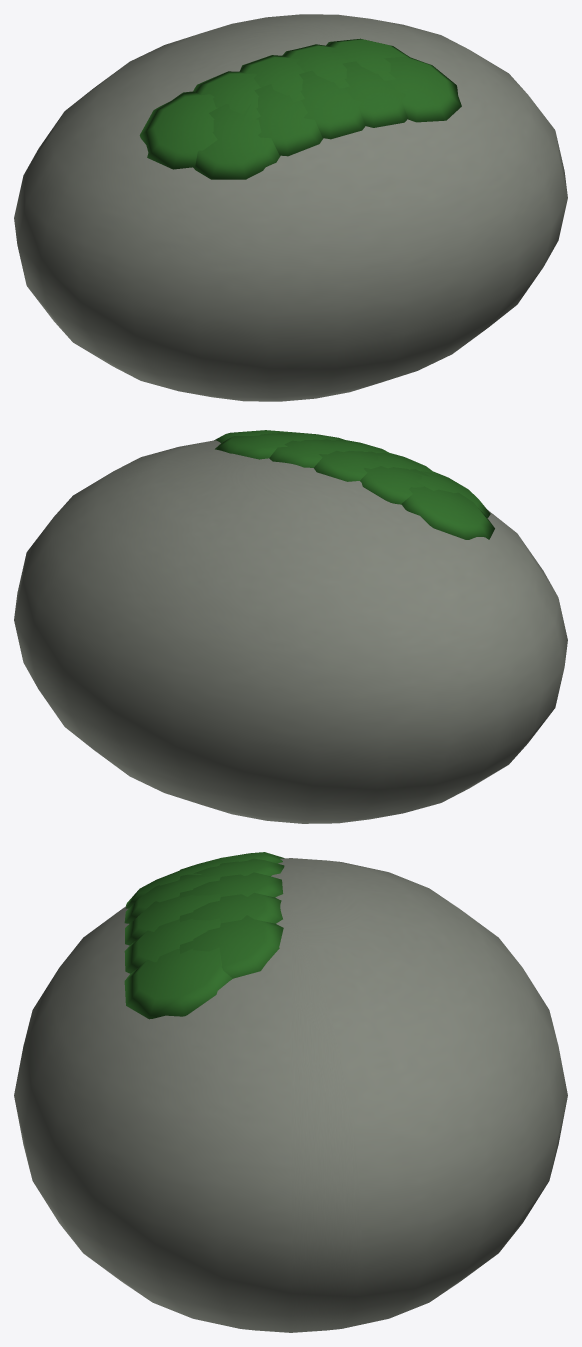
Rendered from DebrisRock.gltf.
3 renders of one model, top to bottom at view 1: azimuth 30°, elevation 25°; view 2: azimuth 150°, elevation 25°; view 3: azimuth 270°, elevation 25°, orthographic. The views are drawn at different scales.
Visible parts, largest first — view 1: DebrisRock__Body; view 2: DebrisRock__Body; view 3: DebrisRock__Body.
Part boxes in pixels (box(x1,y1,x2,y2)): DebrisRock__Body: box(14, 14, 567, 401); DebrisRock__Body: box(14, 430, 567, 823); DebrisRock__Body: box(14, 852, 567, 1332).
Bounding box in the file's own units: 0.224 × 0.14 × 0.182.
1 material, 1 textured.
